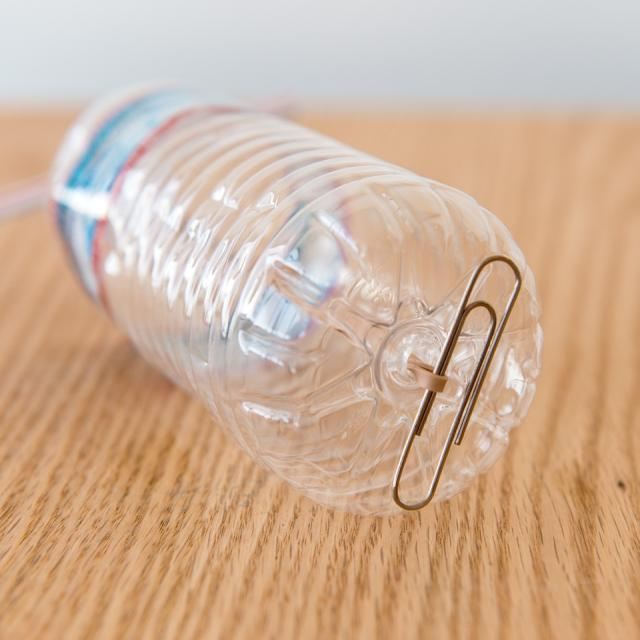plastic_bottle: (47, 79, 544, 518)
